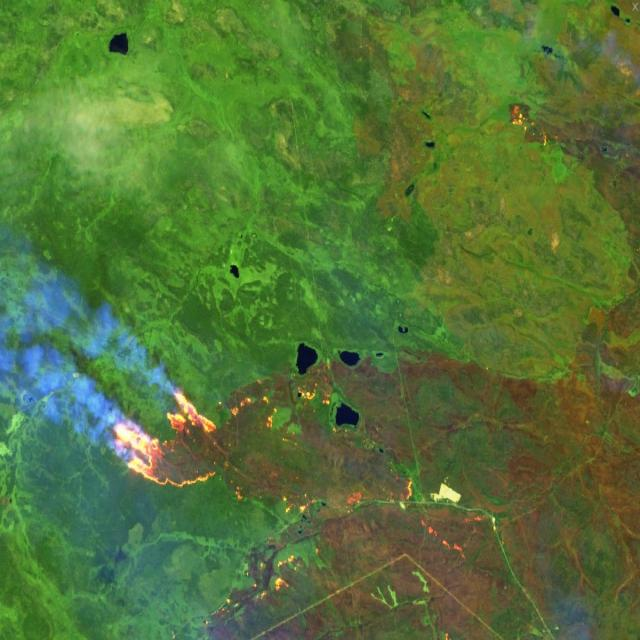fire: (221, 380, 472, 598), (106, 376, 217, 492), (508, 96, 557, 154)
